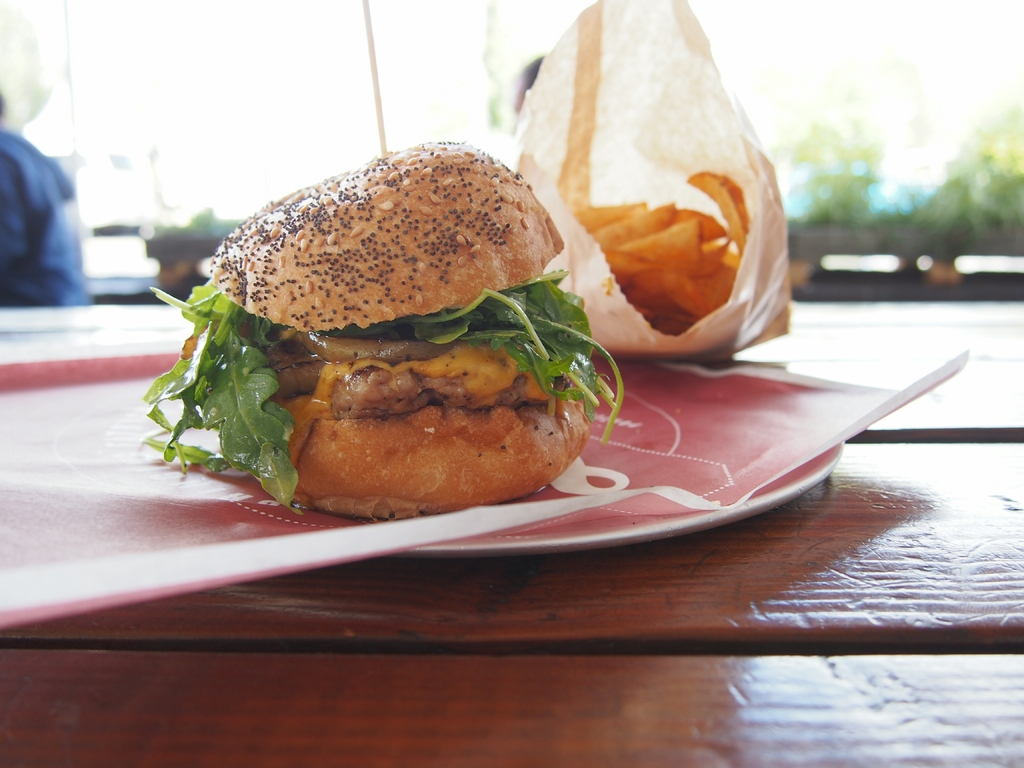Hamburger: (144, 140, 619, 510)
